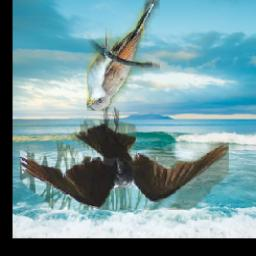Crow: (20, 108, 229, 211)
Cuckoo: (87, 0, 160, 111)
